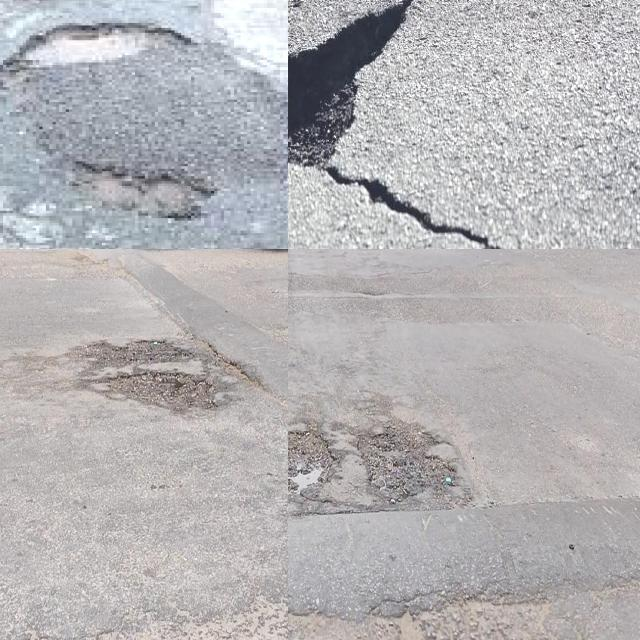Pothole: (288, 0, 413, 172), (0, 23, 198, 75), (83, 338, 209, 415), (72, 161, 208, 221), (361, 424, 454, 502), (288, 429, 335, 493)
